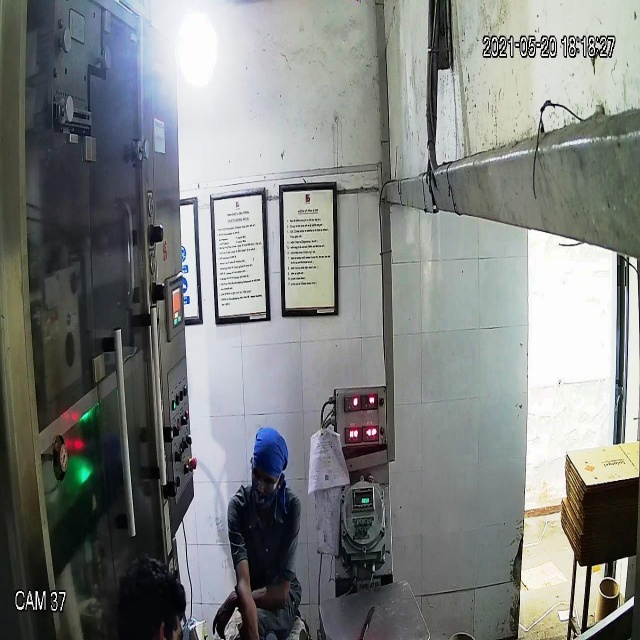Gafas: (247, 460, 284, 495)
